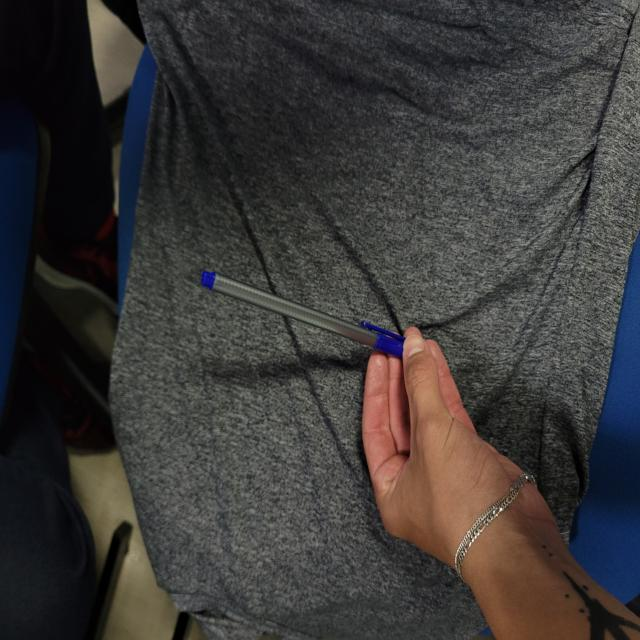caneta: (181, 240, 393, 354)
